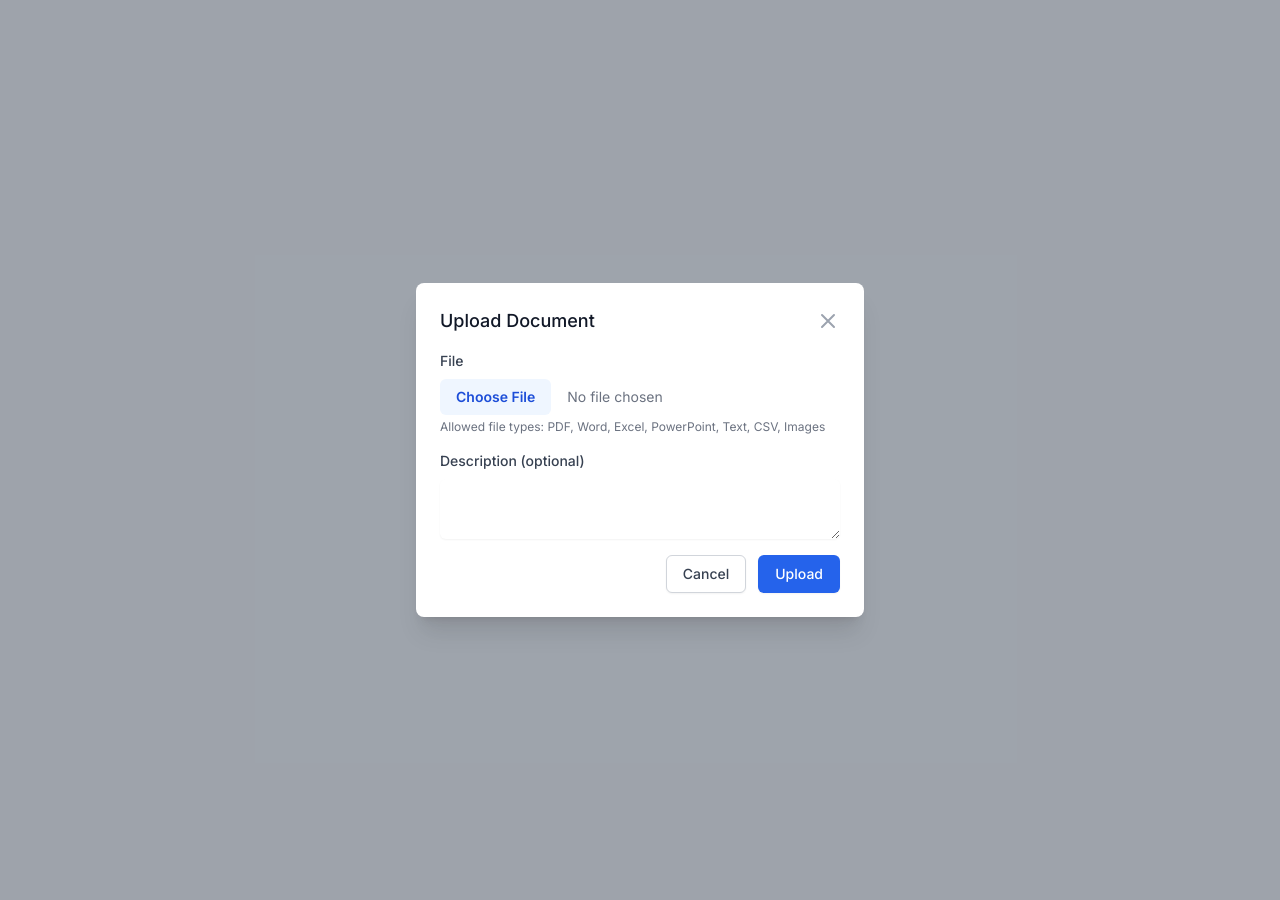
Test: DocumentUpload Component › handles form submission
// Fill in description
Step 1. Type "Test upload description" into the text box labelled "Description (optional)" → (640, 509), box [440, 479, 840, 539]
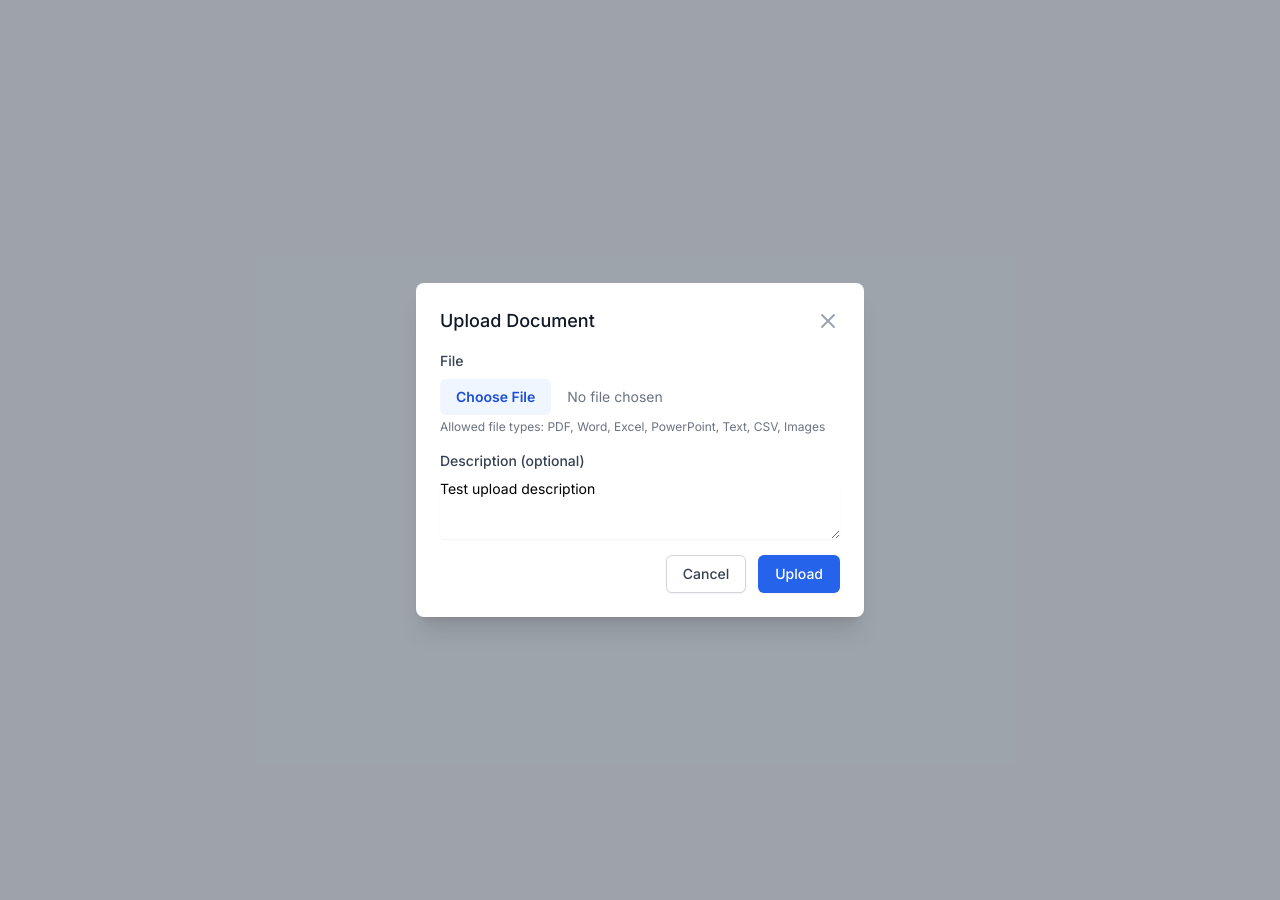
// Submit form without file should show error
Step 2. Click the button "Upload" → (799, 574), box [758, 555, 840, 593]
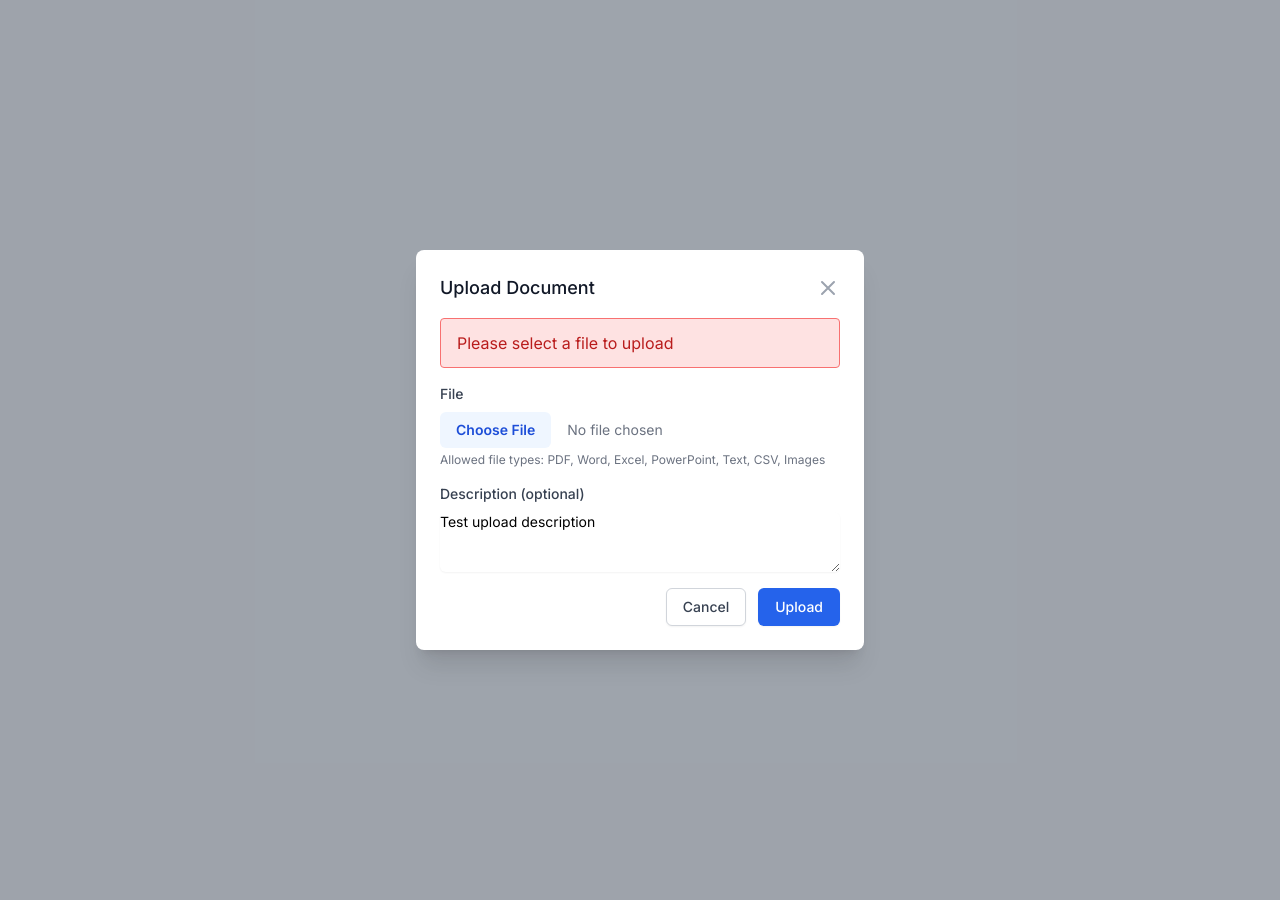
expect the text "Please select a file to upload" is shown: met, box [457, 333, 674, 353]
